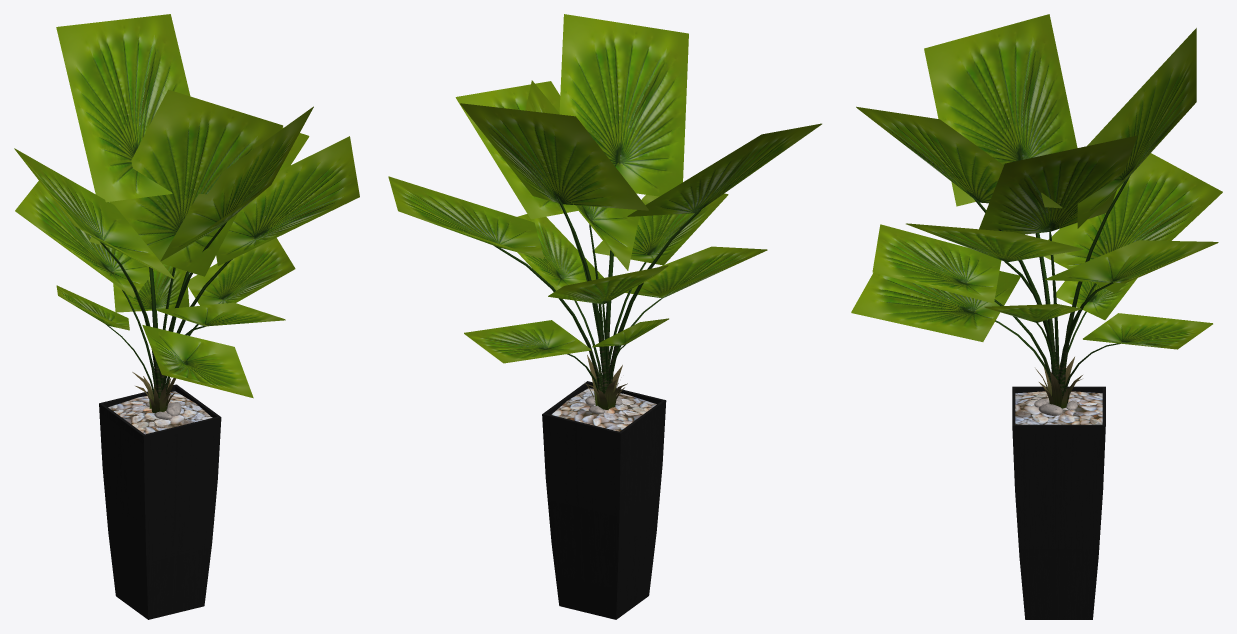
The model's file is Plant02.fbx.
The picture shows the model from 3 angles, left to right: view 1: azimuth 30°, elevation 25°; view 2: azimuth 150°, elevation 25°; view 3: azimuth 270°, elevation 25°; orthographic projection. The views are drawn at different scales.
Visible parts, largest first — view 1: Plant02_LOD0; view 2: Plant02_LOD0; view 3: Plant02_LOD0.
Boxes of the visible parts, left/top/right/bottom form: Plant02_LOD0: left=14, top=14, right=359, bottom=619; Plant02_LOD0: left=388, top=14, right=821, bottom=619; Plant02_LOD0: left=851, top=14, right=1222, bottom=619.
Size of what is drawn, in the model's own units: 101 by 155 by 93.74.
